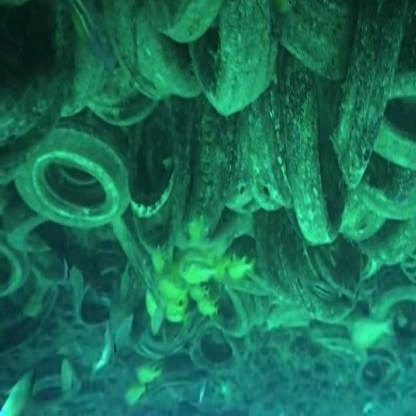tire: (234, 84, 360, 272), (178, 1, 296, 144), (36, 100, 129, 212), (131, 100, 210, 226)
